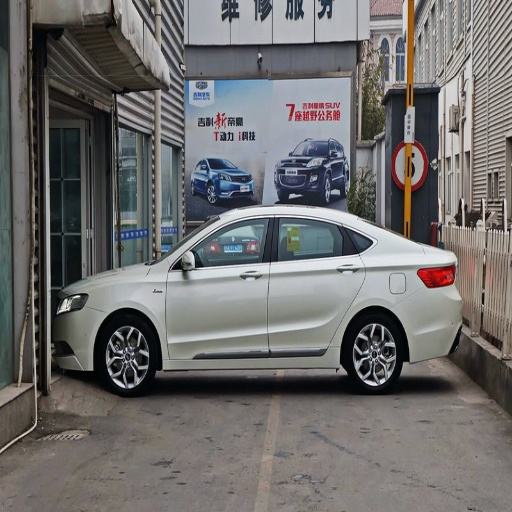back_left_door: (267, 215, 365, 352)
front_left_door: (166, 216, 273, 358)
